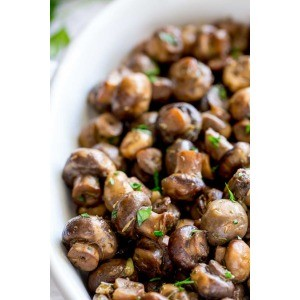mushroom_brain food: (105, 75, 237, 242)
